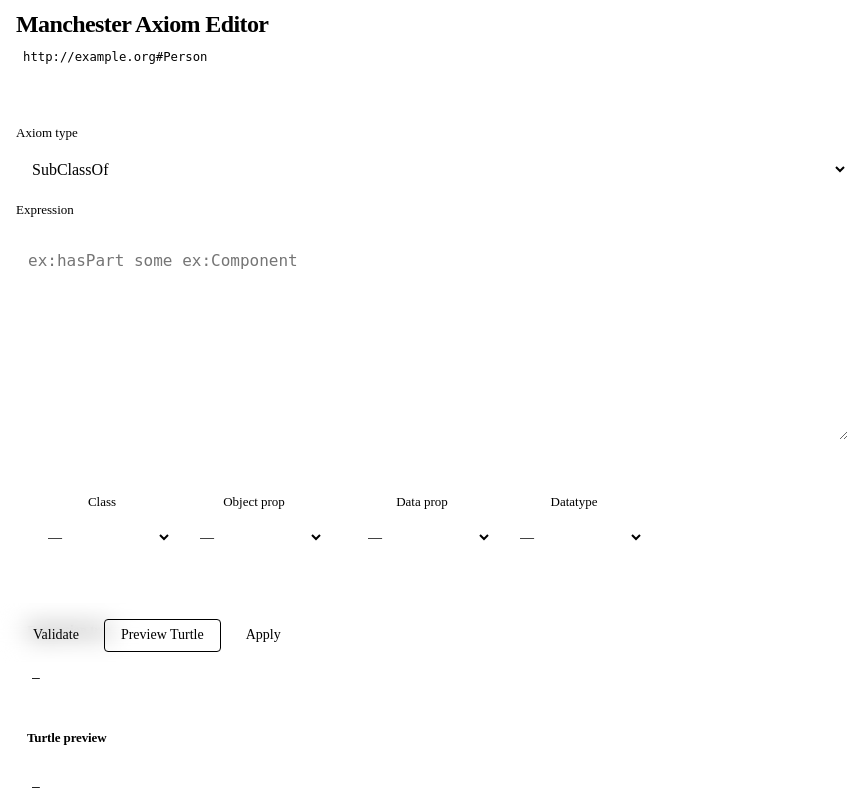
Test case: ManchesterEditorPanel › switches to disjoint_class mode and hides completion toolbar
This screenshot has width=865, height=805.
Expected: the text "http://example.org#Person" is shown, [16, 48, 214, 66]
Select "DisjointClasses" in the dropdown labelled "Axiom type" at (432, 170), box [16, 151, 848, 188]
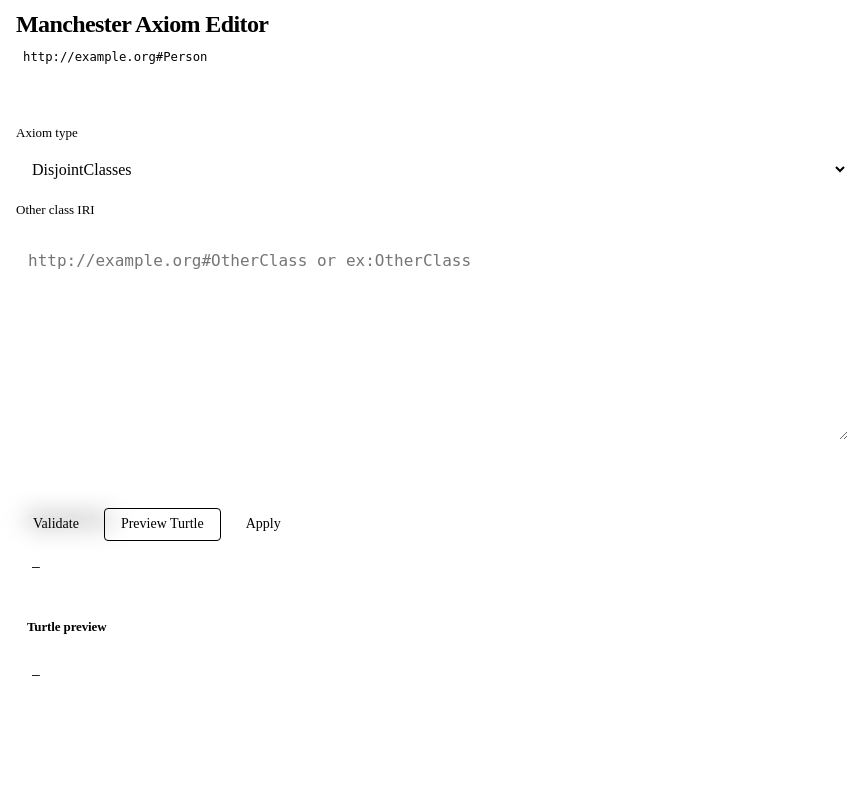
Now the text "Other class IRI" is shown, box [16, 202, 95, 217]
